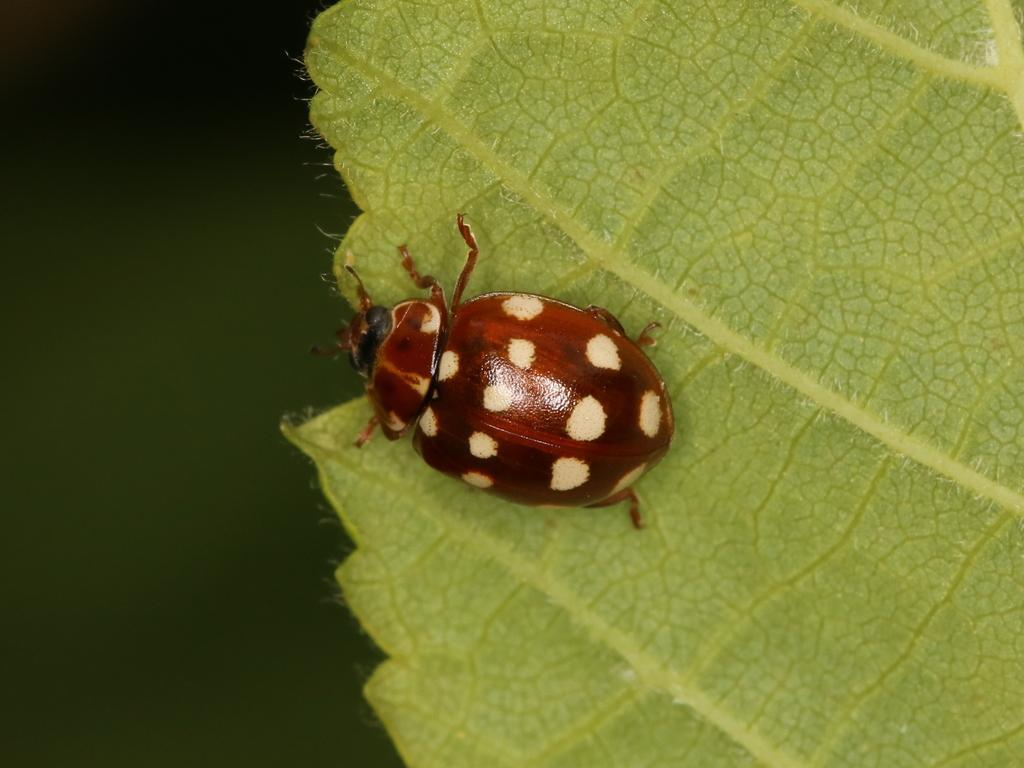ladybug: (303, 207, 683, 537)
